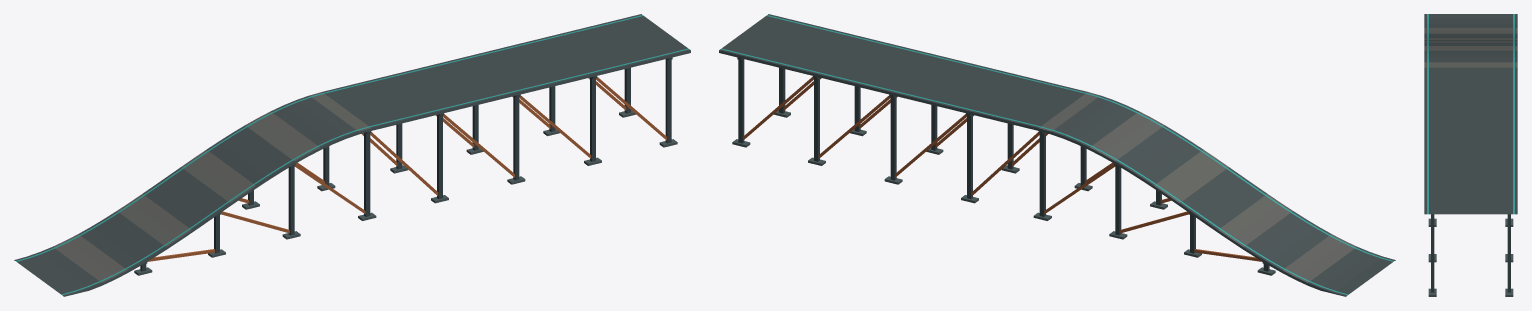
File: w5a-high-kicker-receiver.glb
3 views of the same model, side by side, from view 1: azimuth 30°, elevation 25°; view 2: azimuth 150°, elevation 25°; view 3: azimuth 270°, elevation 25° (orthographic). The views are drawn at different scales.
Parts seen in each view (by area): view 1: D7 Receiver Riding Surface, D7 Receiver | blackened steel stringers, D7 Receiver | dark pressed deck sides, D7 Receiver | fired orange crib brackets; view 2: D7 Receiver Riding Surface, D7 Receiver | blackened steel stringers, D7 Receiver | dark pressed deck sides, D7 Receiver | fired orange crib brackets; view 3: D7 Receiver Riding Surface, D7 Receiver | blackened steel stringers, D7 Receiver | dark pressed deck sides.
Boxes of the visible parts, box(x1,y1,x2,y2) form: D7 Receiver Riding Surface: box(14, 14, 690, 296); D7 Receiver | blackened steel stringers: box(140, 57, 672, 271); D7 Receiver | dark pressed deck sides: box(14, 50, 690, 296); D7 Receiver | fired orange crib brackets: box(147, 76, 666, 261); D7 Receiver Riding Surface: box(719, 14, 1395, 296); D7 Receiver | blackened steel stringers: box(737, 57, 1269, 271); D7 Receiver | dark pressed deck sides: box(719, 50, 1395, 296); D7 Receiver | fired orange crib brackets: box(743, 76, 1262, 261); D7 Receiver Riding Surface: box(1424, 14, 1517, 214); D7 Receiver | blackened steel stringers: box(1431, 214, 1510, 292); D7 Receiver | dark pressed deck sides: box(1428, 218, 1513, 296).
Size of the model in its own units: 33.61 by 4.8 by 4.6.
